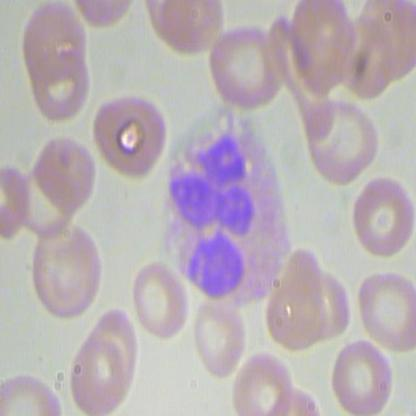RBC: (85, 86, 177, 184), (22, 220, 108, 319), (204, 27, 289, 108), (348, 172, 415, 271), (320, 333, 397, 415), (307, 99, 377, 184), (67, 332, 138, 415), (356, 268, 415, 357), (130, 260, 192, 340), (196, 300, 248, 380)
WBC: (154, 109, 294, 308)
